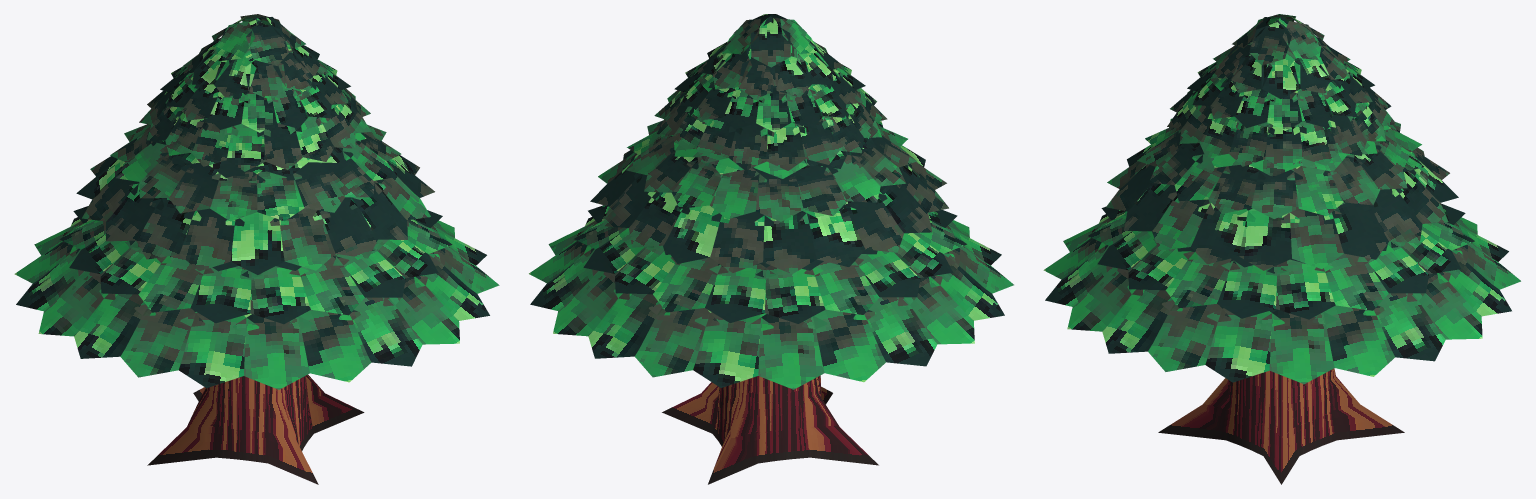
The model's file is tree_dark-forest_000.glb.
The picture shows the model from 3 angles, left to right: view 1: azimuth 30°, elevation 25°; view 2: azimuth 150°, elevation 25°; view 3: azimuth 270°, elevation 25°; orthographic projection.
Visible parts, largest first — view 1: tree_dark-forest_000; view 2: tree_dark-forest_000; view 3: tree_dark-forest_000.
Part boxes in pixels (x1,y1,x2,y2): tree_dark-forest_000: (14,14,499,484); tree_dark-forest_000: (529,14,1013,484); tree_dark-forest_000: (1043,14,1520,484).
Size of the model in its own units: 1.02 by 0.98 by 1.02.
Materials: 1 (1 with a texture image).
